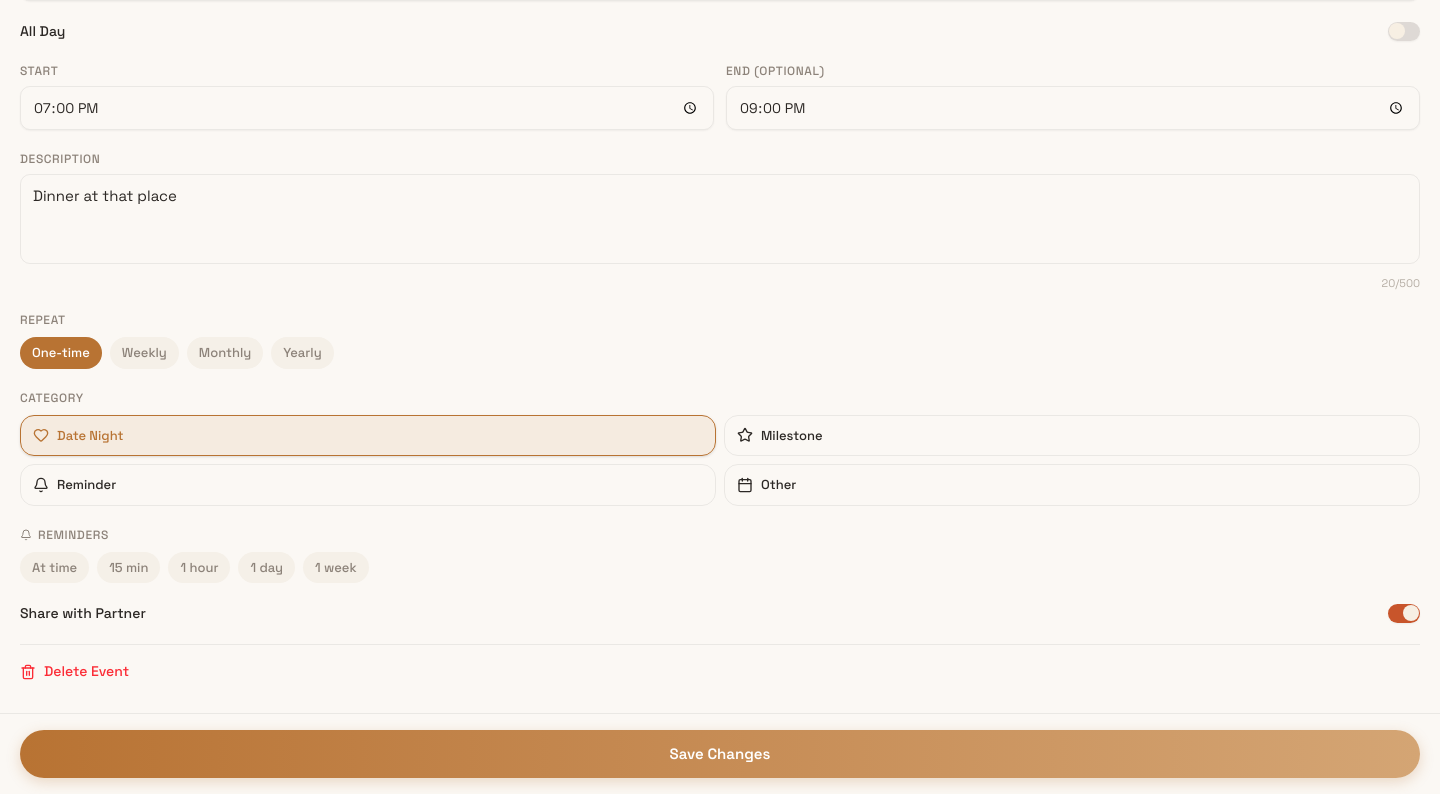
CreateEventForm › interaction › cancels delete on cancel click
The width and height of the screenshot is (1440, 794).
(page scrolled)
Click the button with test id "delete-button".
click(75, 672)  # box [20,661,129,682]
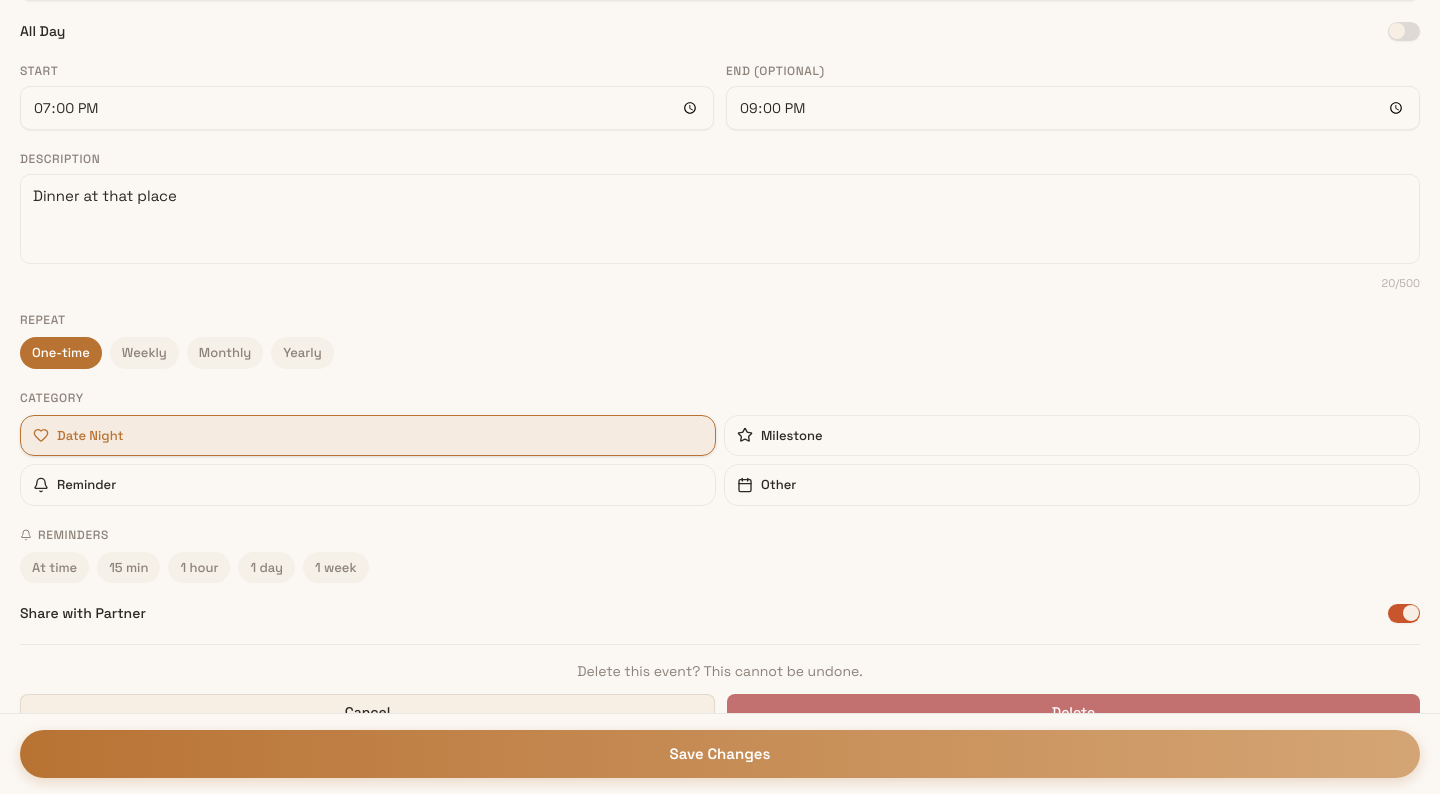
Click the button with test id "delete-cancel".
click(368, 712)  # box [20,694,715,730]
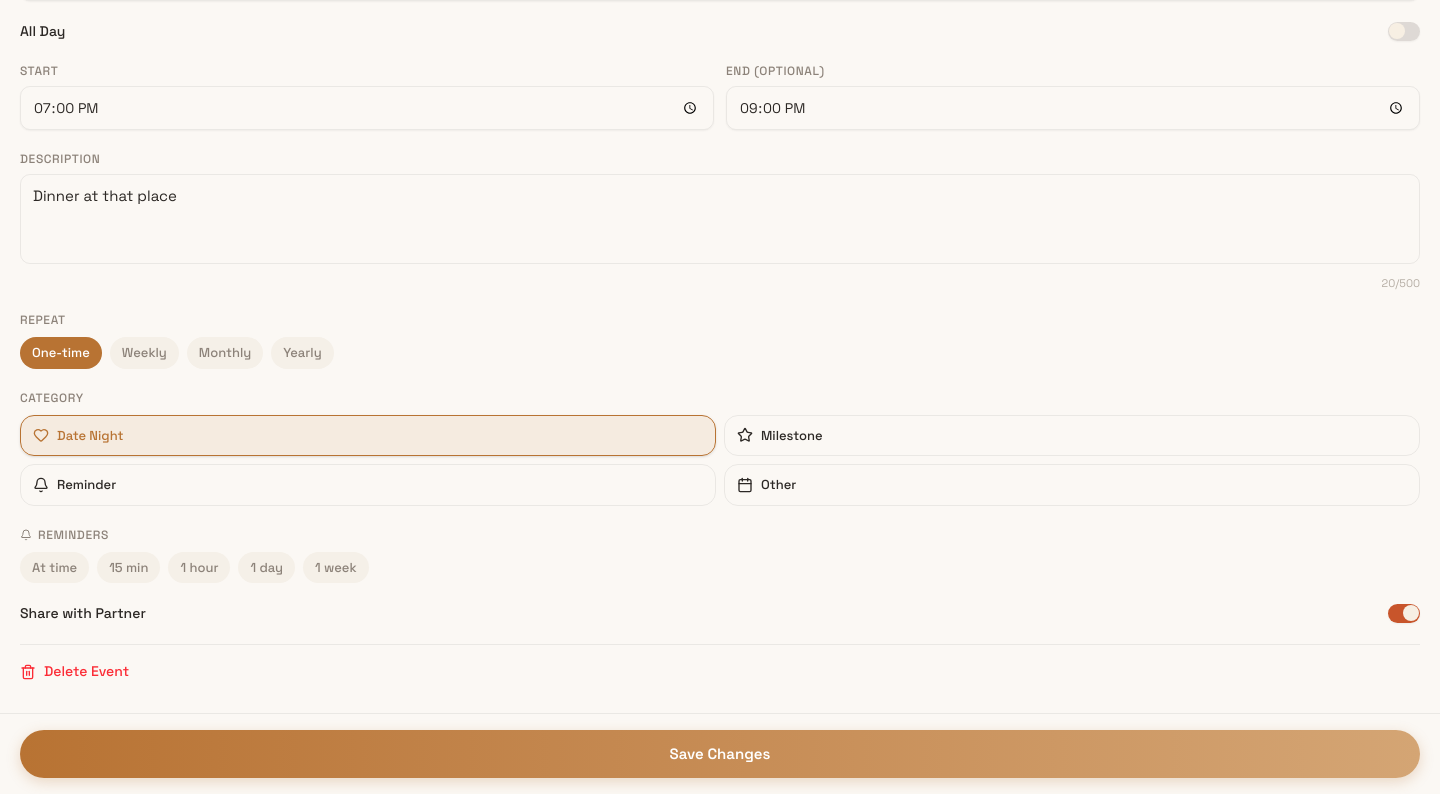
Check: the element with test id "delete-confirm" is gone
